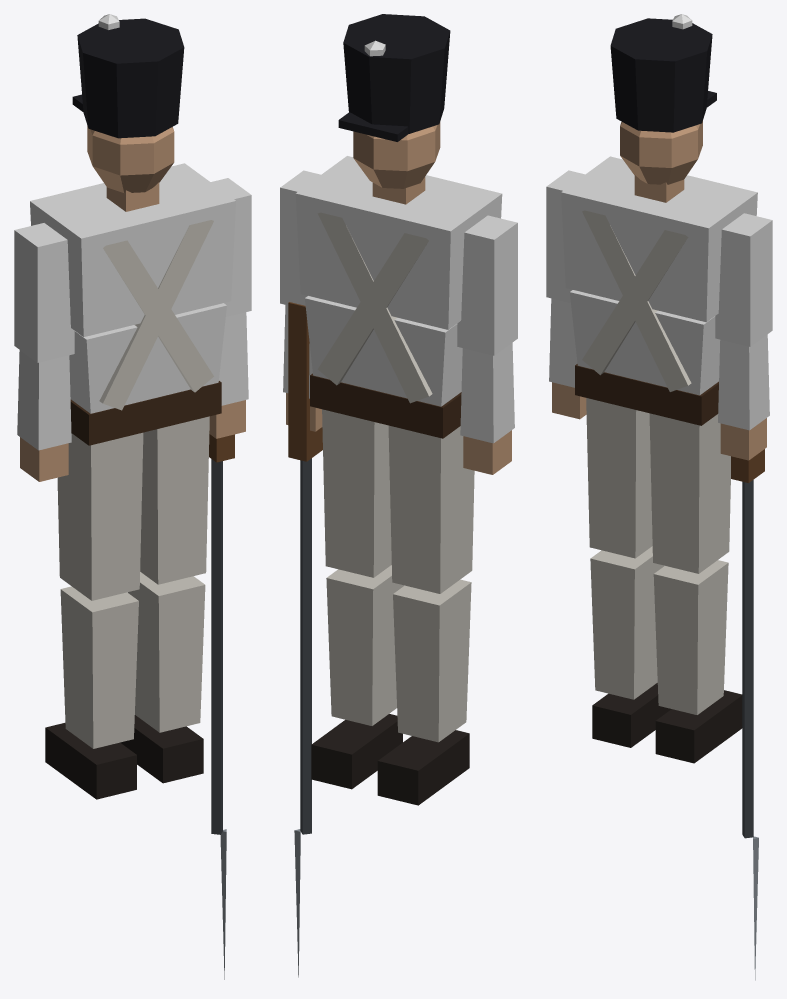
The model's file is soldier_c19_line_lod0.glb.
3 views of the same model, side by side, from view 1: azimuth 30°, elevation 25°; view 2: azimuth 150°, elevation 25°; view 3: azimuth 330°, elevation 25° (orthographic). The views are drawn at different scales.
Visible parts, largest first — view 1: c19_line_lod0_static; view 2: c19_line_lod0_static; view 3: c19_line_lod0_static.
Boxes of the visible parts, box(x1,y1,x2,y2) form: c19_line_lod0_static: box(14, 14, 251, 979); c19_line_lod0_static: box(280, 14, 517, 977); c19_line_lod0_static: box(546, 14, 772, 980).
Size of the model in its own units: 0.58 by 2.54 by 0.2807.
